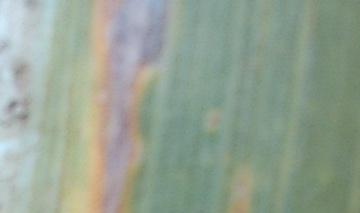tarspot: (13, 63, 27, 82), (7, 99, 20, 111), (1, 38, 9, 55), (17, 113, 31, 121), (24, 1, 38, 8)
